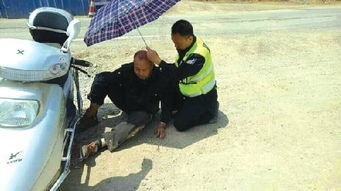falling: (72, 44, 171, 163)
